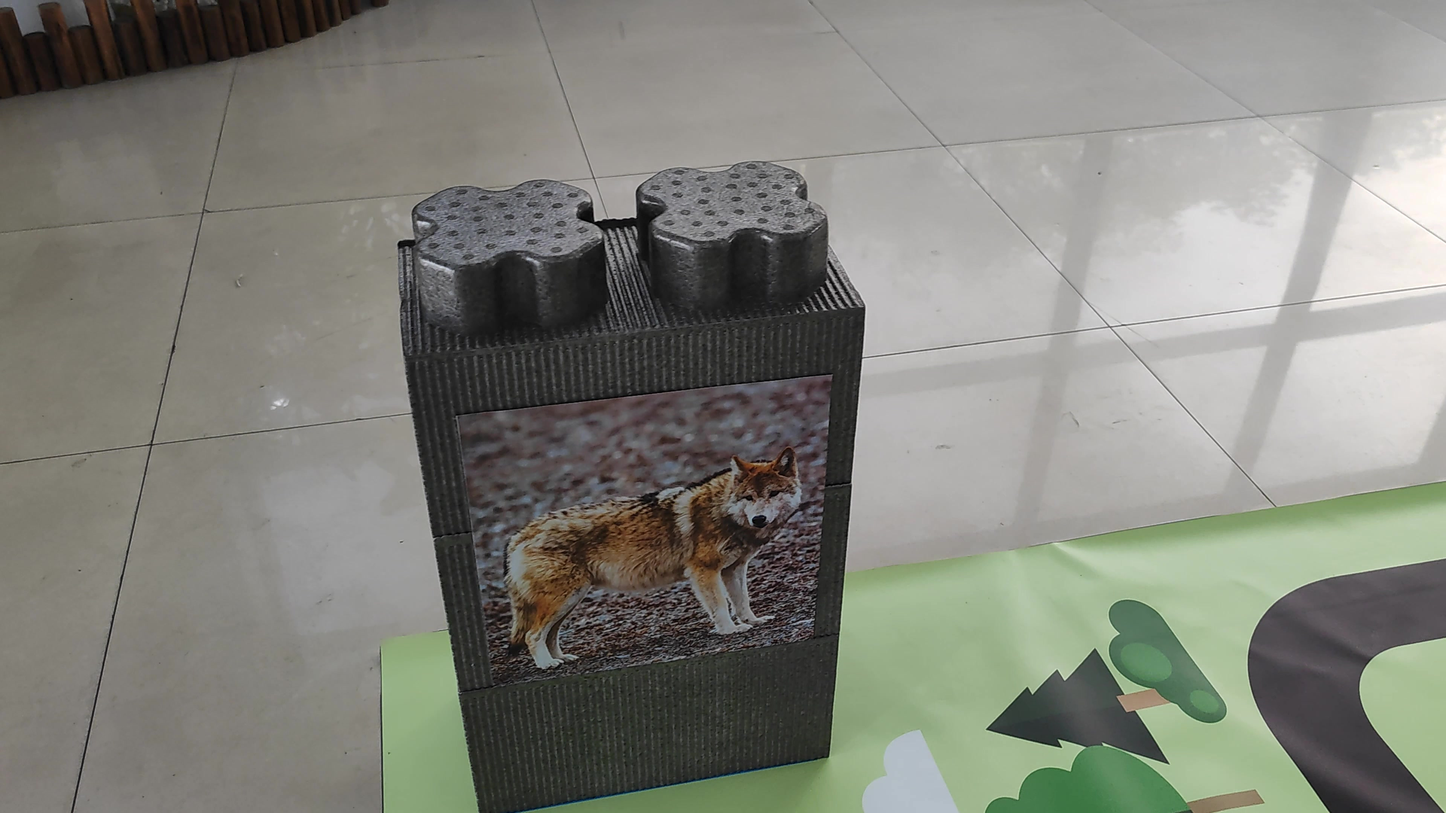wolf: (481, 431, 819, 673)
